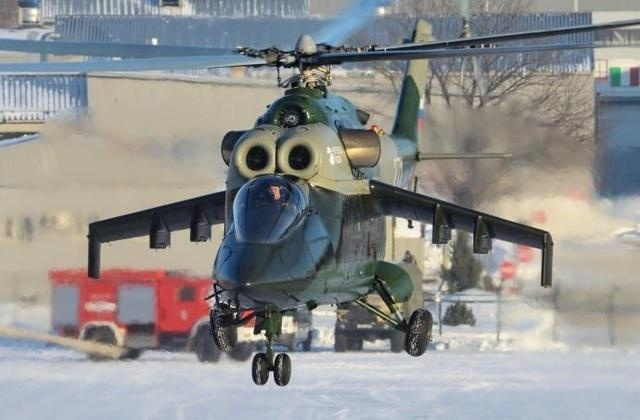airplane: (85, 16, 640, 388)
